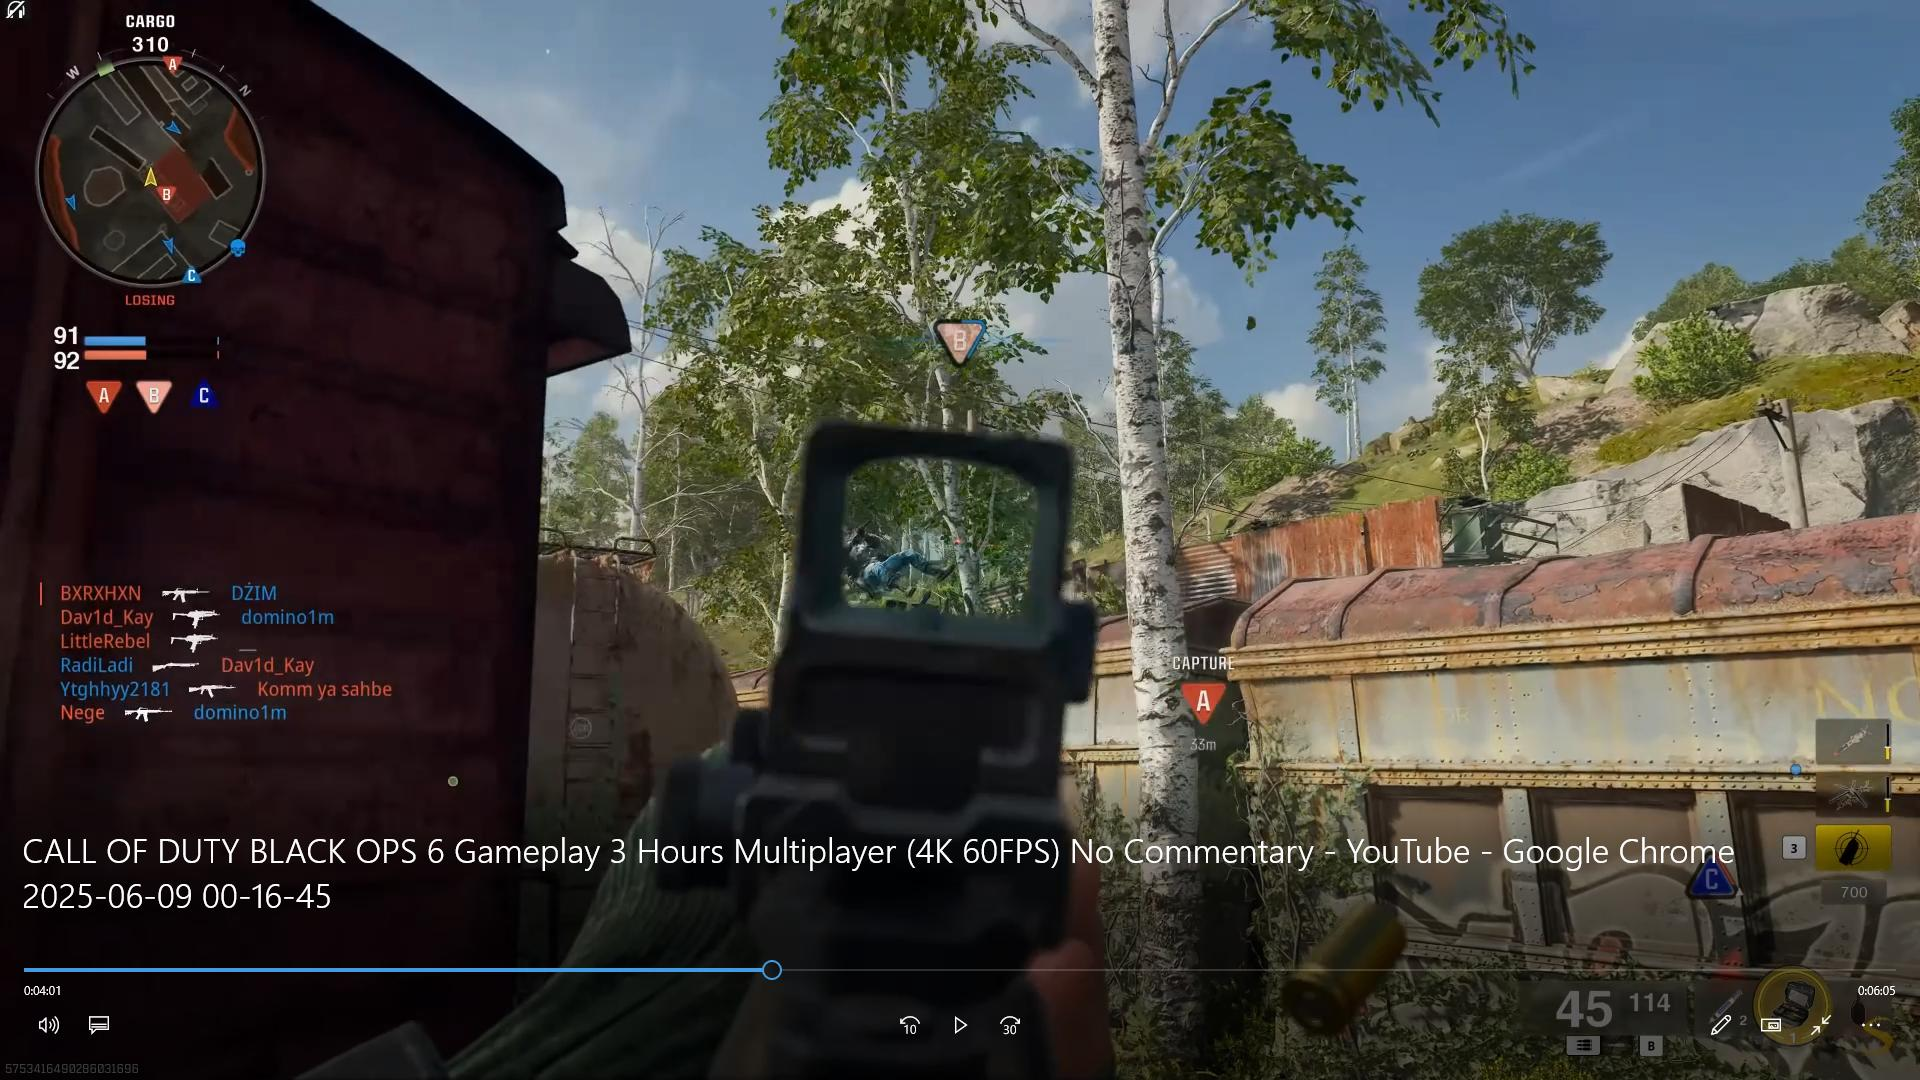Enemy: (837, 520, 955, 601)
